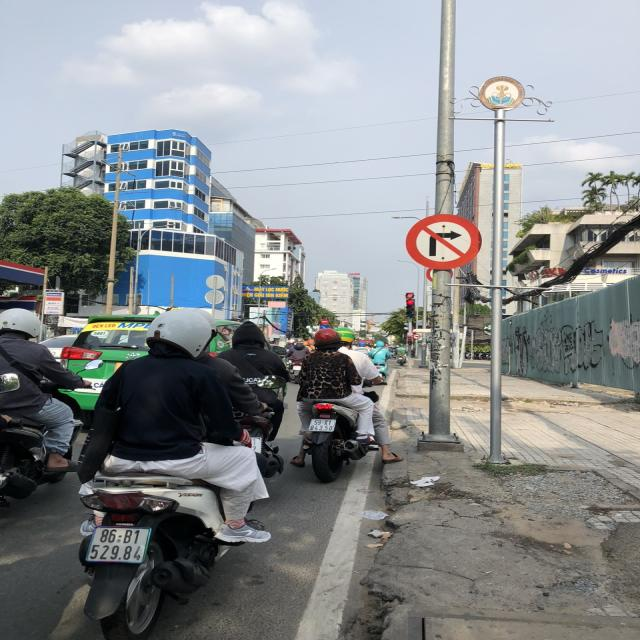Bien bao cam re phai: (398, 209, 487, 272)
